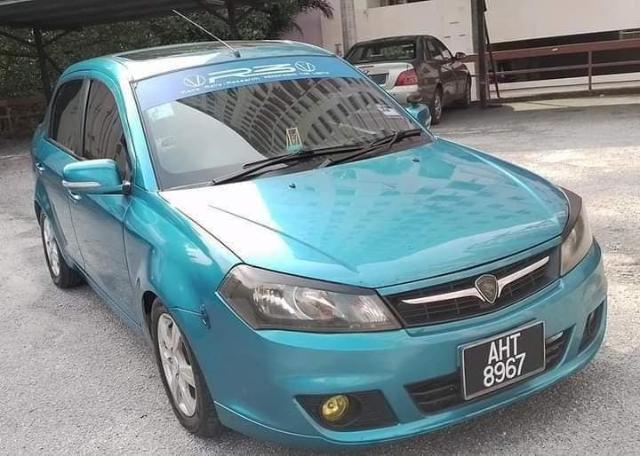License_Plate: (473, 325, 544, 396)
car: (32, 30, 613, 448)
